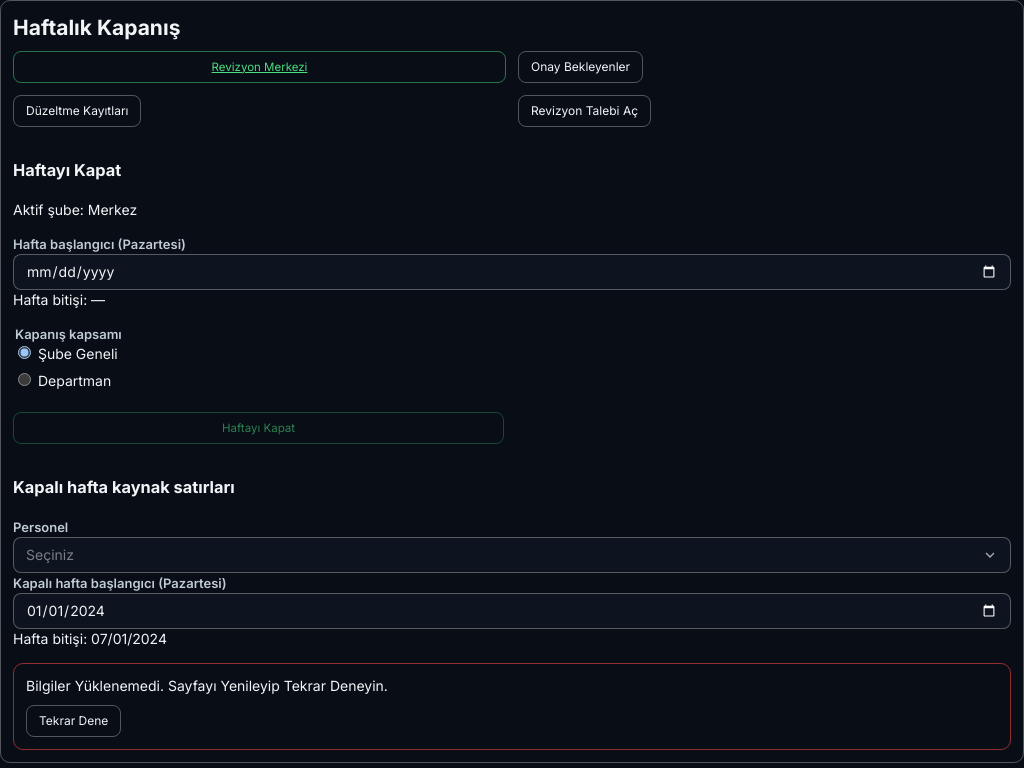
HaftalikKapanisClosePanel UI › keeps empty week disabled and rejects non-Monday without POST
Check: the button with test id "hk-close-open" is disabled, box left=13, top=412, right=504, bottom=444
Type "2026-04-07" into the date field with test id "hk-close-hafta-baslangic" at (512, 272), box left=13, top=254, right=1011, bottom=290
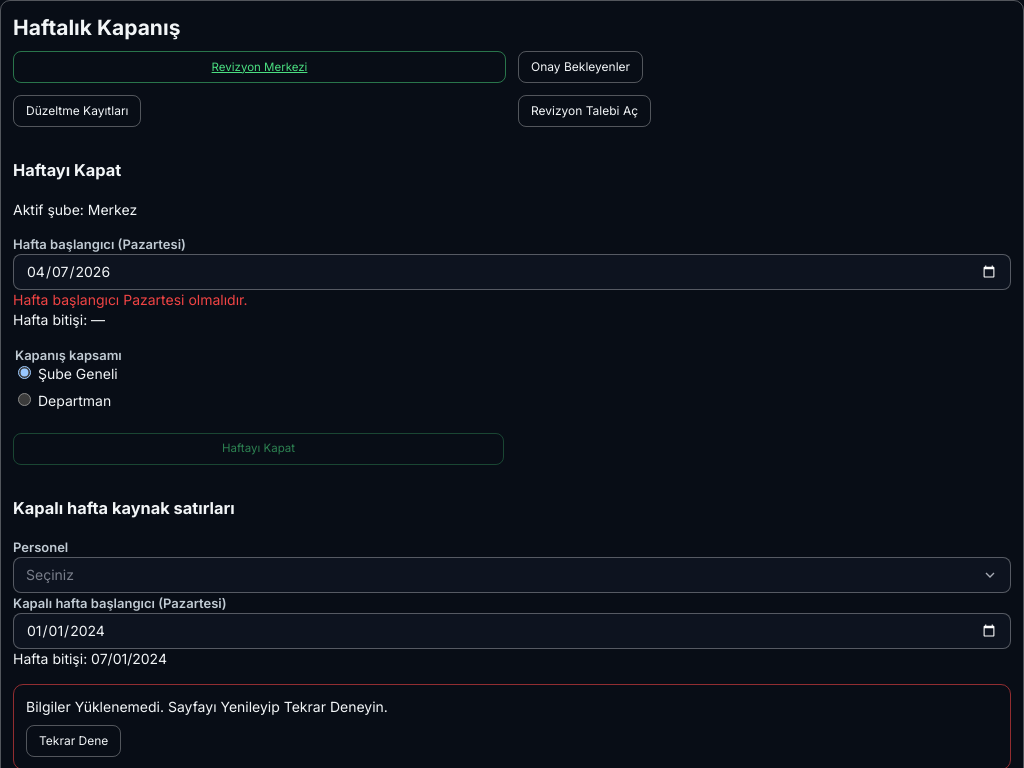
Check: the button with test id "hk-close-open" is disabled, box left=13, top=433, right=504, bottom=465
Check: the message "Hafta başlangıcı Pazartesi olmalıdır." is shown, box left=13, top=291, right=248, bottom=308
Type "2026-04-06" into the date field with test id "hk-close-hafta-baslangic" at (512, 272), box left=13, top=254, right=1011, bottom=290
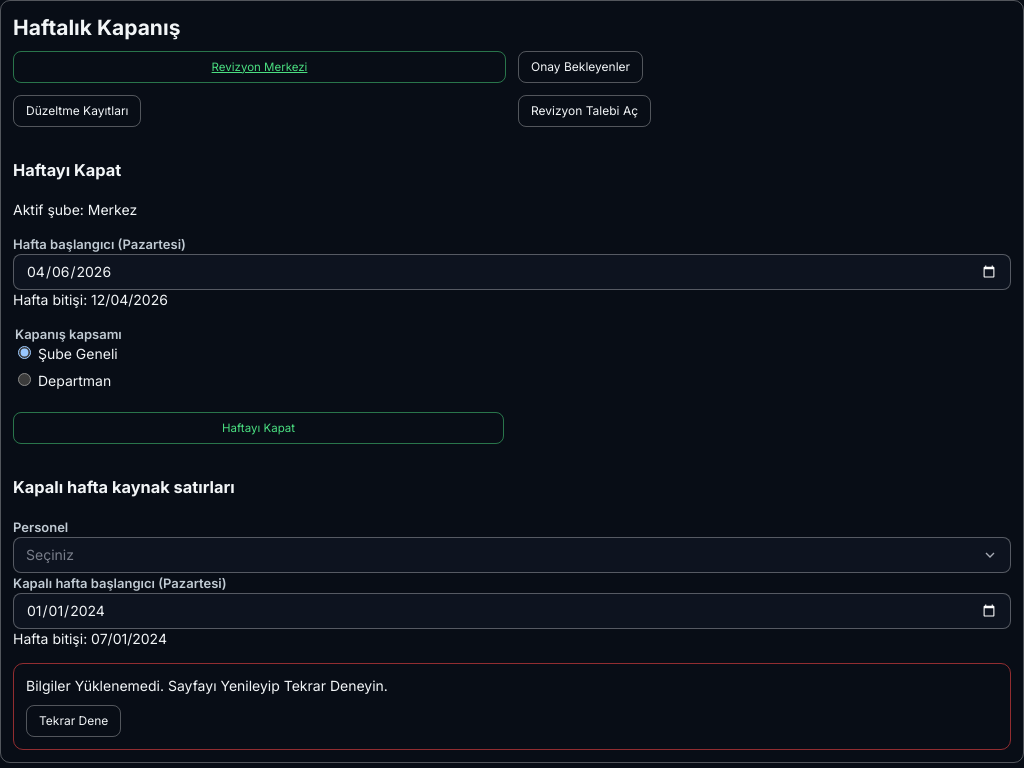
Check: the text with test id "hk-close-hafta-bitis" shows "12/04/2026", box left=91, top=291, right=168, bottom=308
Check: the button with test id "hk-close-open" is enabled, box left=13, top=412, right=504, bottom=444
